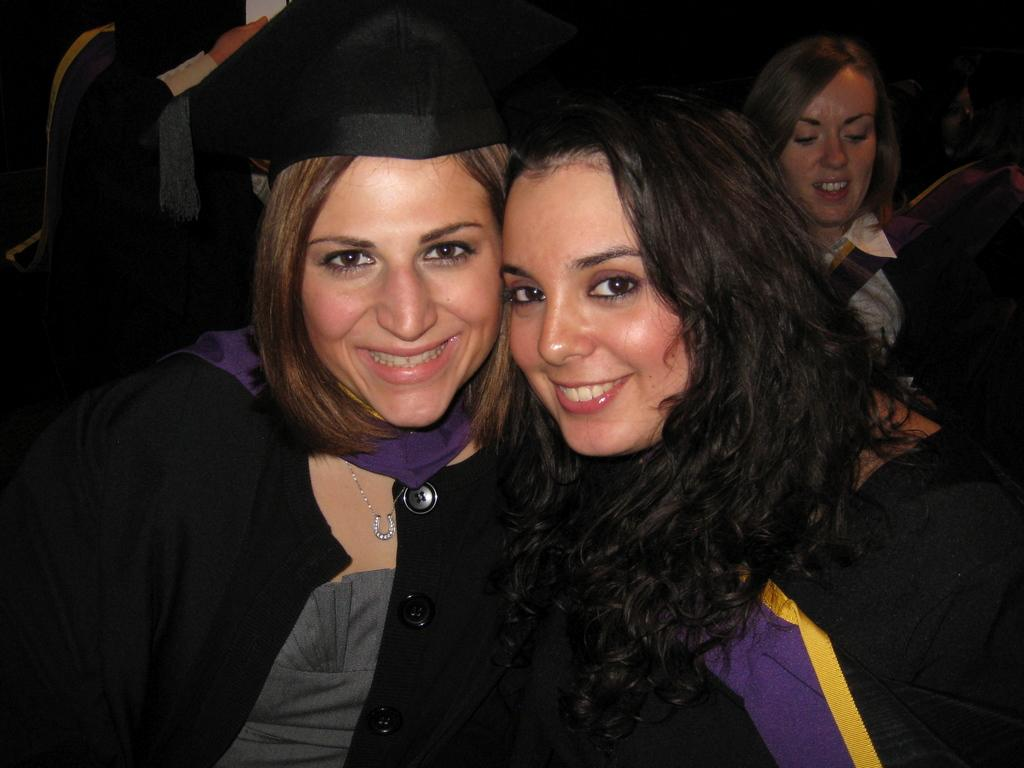Sem Máscara: (499, 155, 684, 455), (291, 157, 498, 424), (777, 62, 871, 223)
